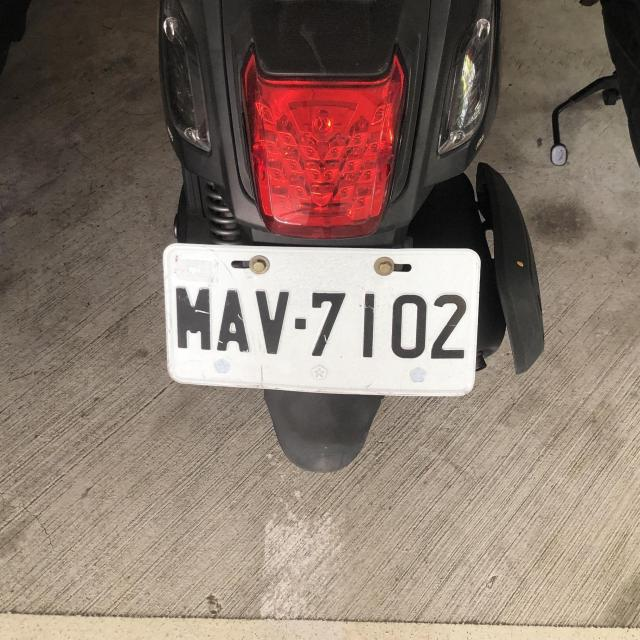W: (154, 240, 482, 398)
